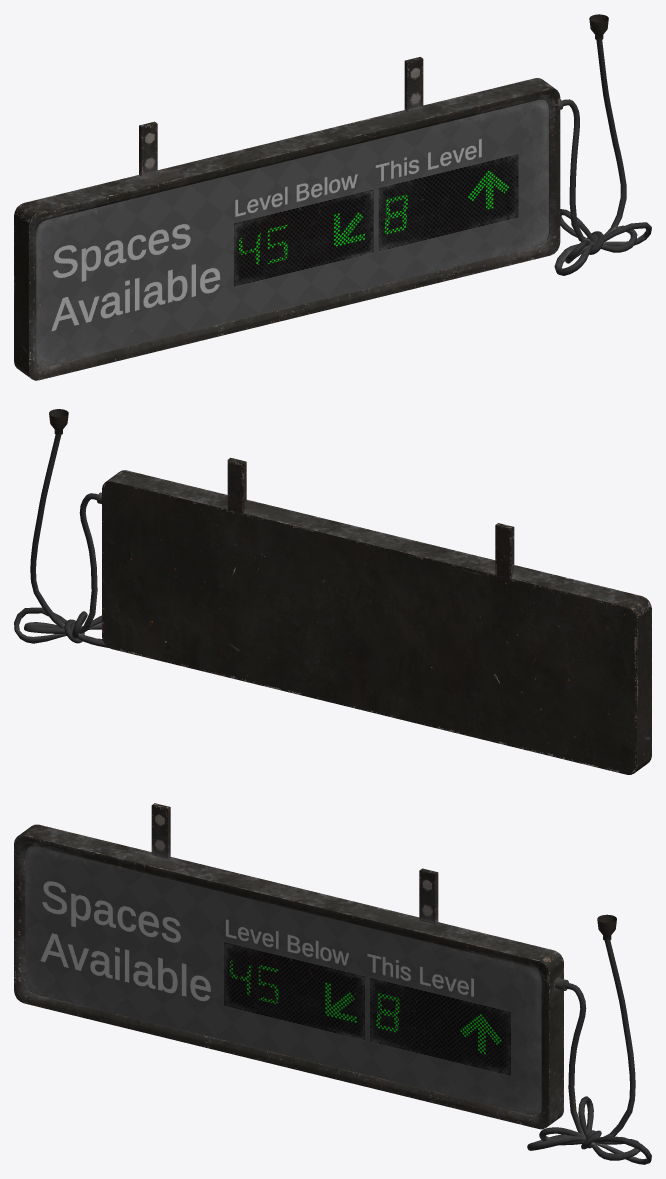
File: DisplayBoard_01a_snaps019.fbx
3 renders of one model, top to bottom at view 1: azimuth 30°, elevation 25°; view 2: azimuth 150°, elevation 25°; view 3: azimuth 330°, elevation 25°, orthographic.
Parts seen in each view (by area): view 1: DisplayBoard_01a_snaps019_LOD0; view 2: DisplayBoard_01a_snaps019_LOD0; view 3: DisplayBoard_01a_snaps019_LOD0.
Boxes of the visible parts, x1,y1,x2,y2 form: DisplayBoard_01a_snaps019_LOD0: [14, 14, 651, 380]; DisplayBoard_01a_snaps019_LOD0: [14, 409, 651, 774]; DisplayBoard_01a_snaps019_LOD0: [14, 803, 651, 1164].
Size of what is drawn, in the model's own units: 153 by 55.01 by 16.28.
